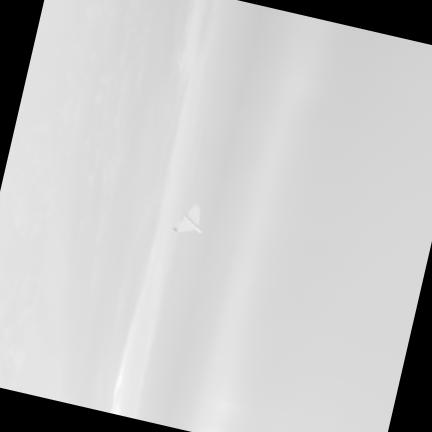Shahed: (174, 203, 202, 232)
